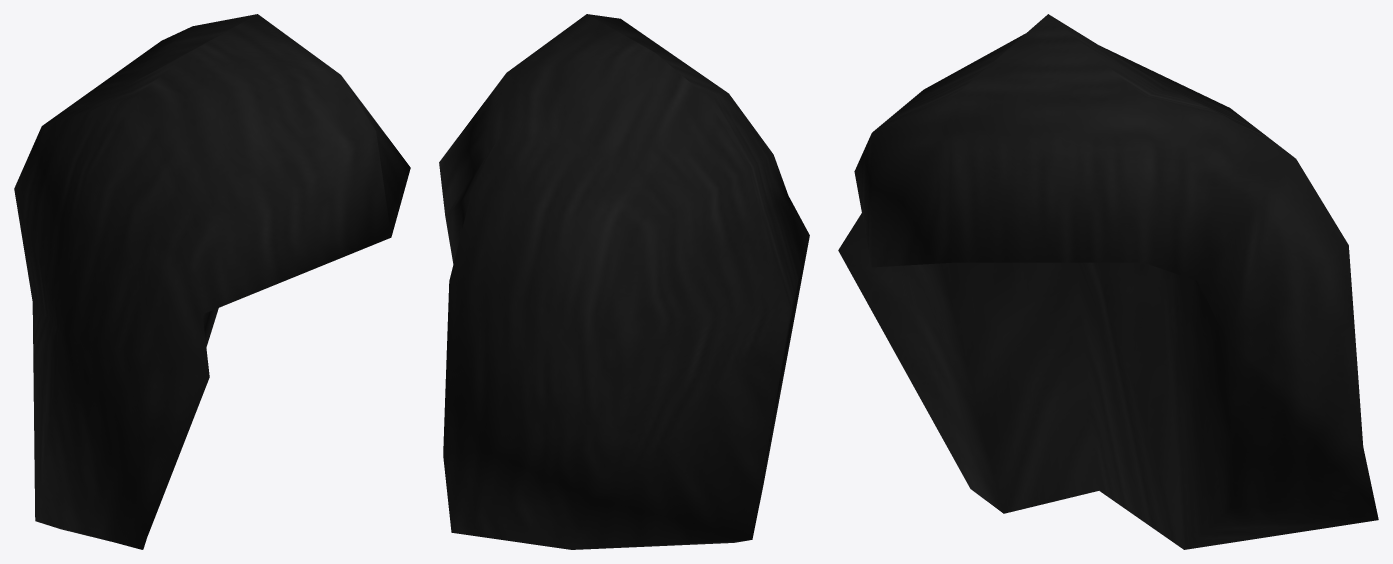
File: bassdrop.glb
3 views of the same model, side by side, from view 1: azimuth 30°, elevation 25°; view 2: azimuth 150°, elevation 25°; view 3: azimuth 270°, elevation 25° (orthographic). The views are drawn at different scales.
Visible parts, largest first — view 1: Bass Drop; view 2: Bass Drop; view 3: Bass Drop.
Part boxes in pixels (x1,y1,x2,y2): Bass Drop: (14, 14, 410, 549); Bass Drop: (439, 14, 809, 549); Bass Drop: (838, 14, 1378, 549).
Bounding box in the file's own units: 0.1961 × 0.2779 × 0.2546.
1 material, 1 textured.
